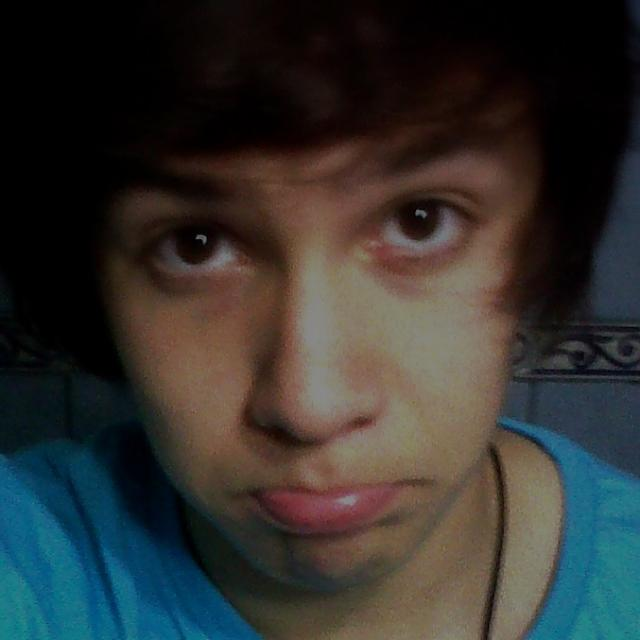Depress: (107, 84, 544, 589)
